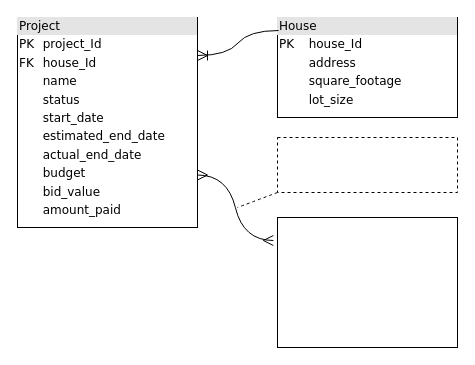
Image size: 475x365. Some labels were removed from this diagram. The centre of each missing label's shape, as x and y in pixels:
"Employee PK employee_Id first_name last_name trade dob hourly_rate" goes at (x=367, y=282).
"Employee_Project PK, FK1 project_Id PK, FK2 employee_Id" goes at (x=367, y=164).
